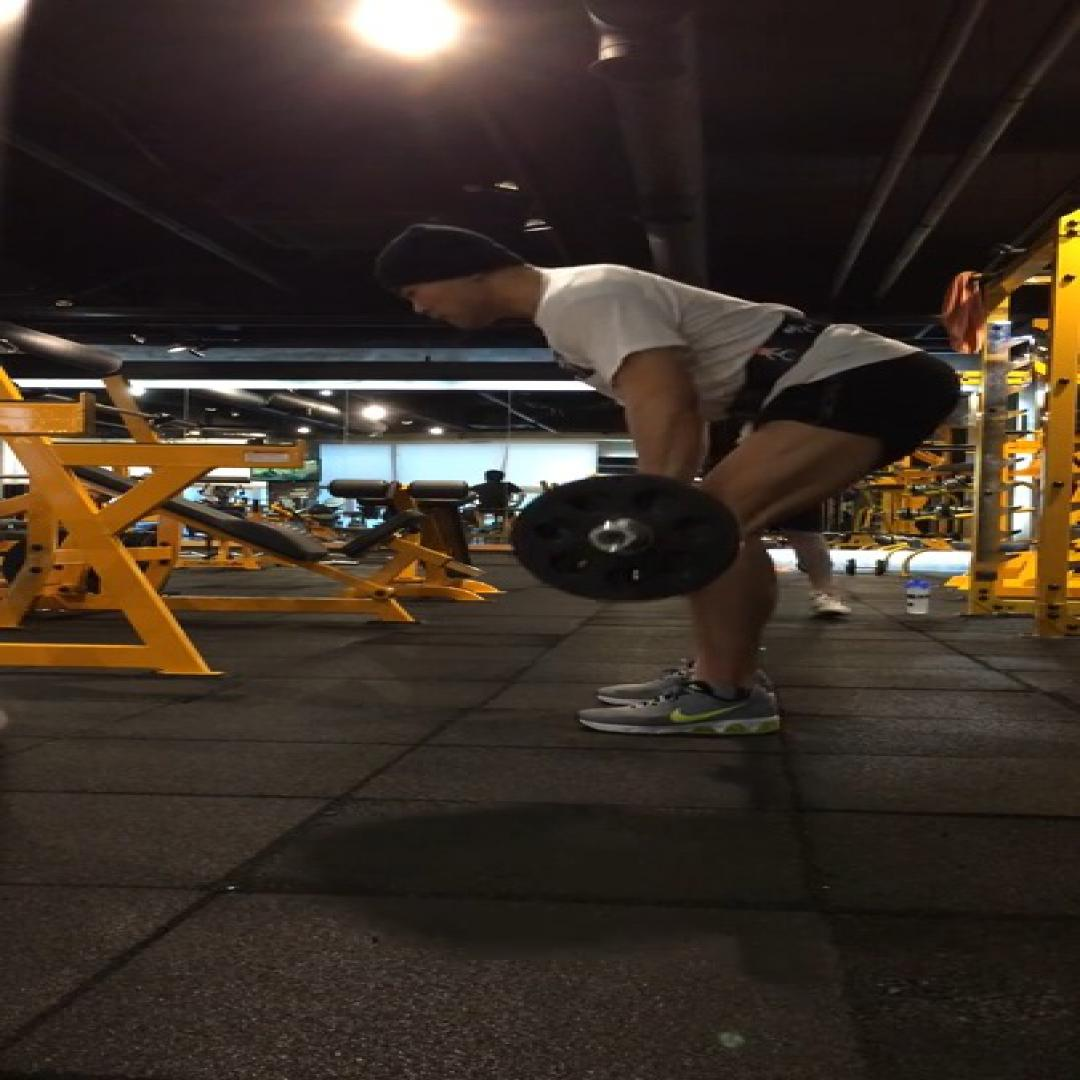Bar: (588, 520, 636, 552)
Barbell: (510, 474, 740, 602)
